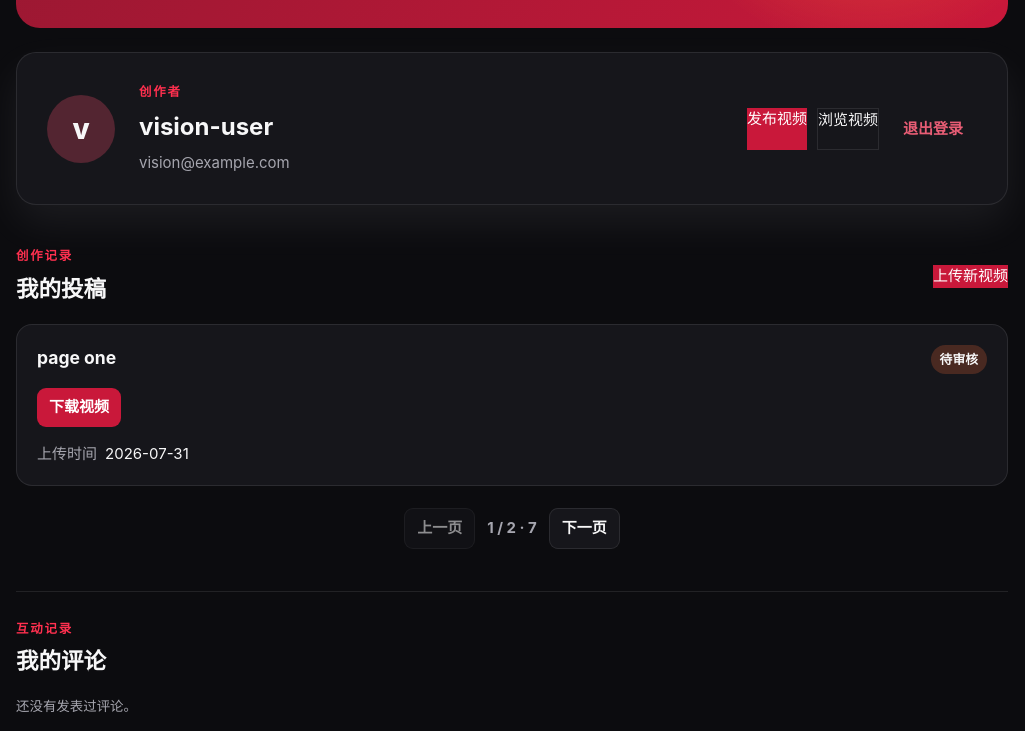
Test: 个人中心退出登录 › loads the next page of submissions from the paged API response
(page scrolled)
Click the button with class "submission-page-next" at (584, 528), box [549, 508, 620, 549]
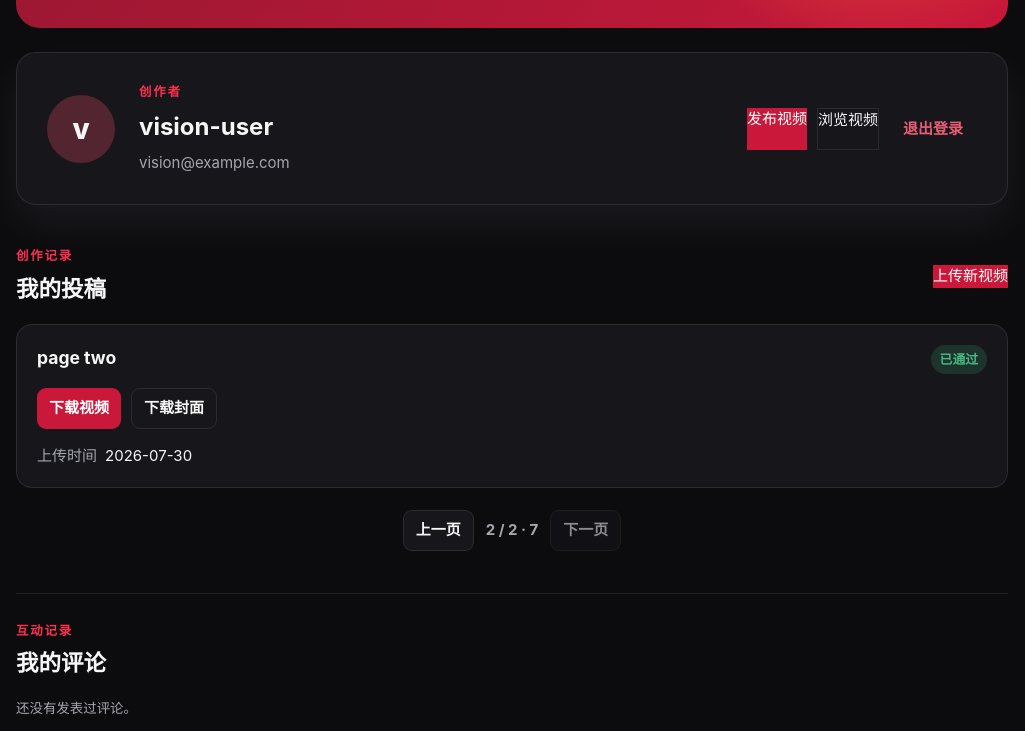
Now the text "page two" is shown, box [37, 345, 116, 371]
